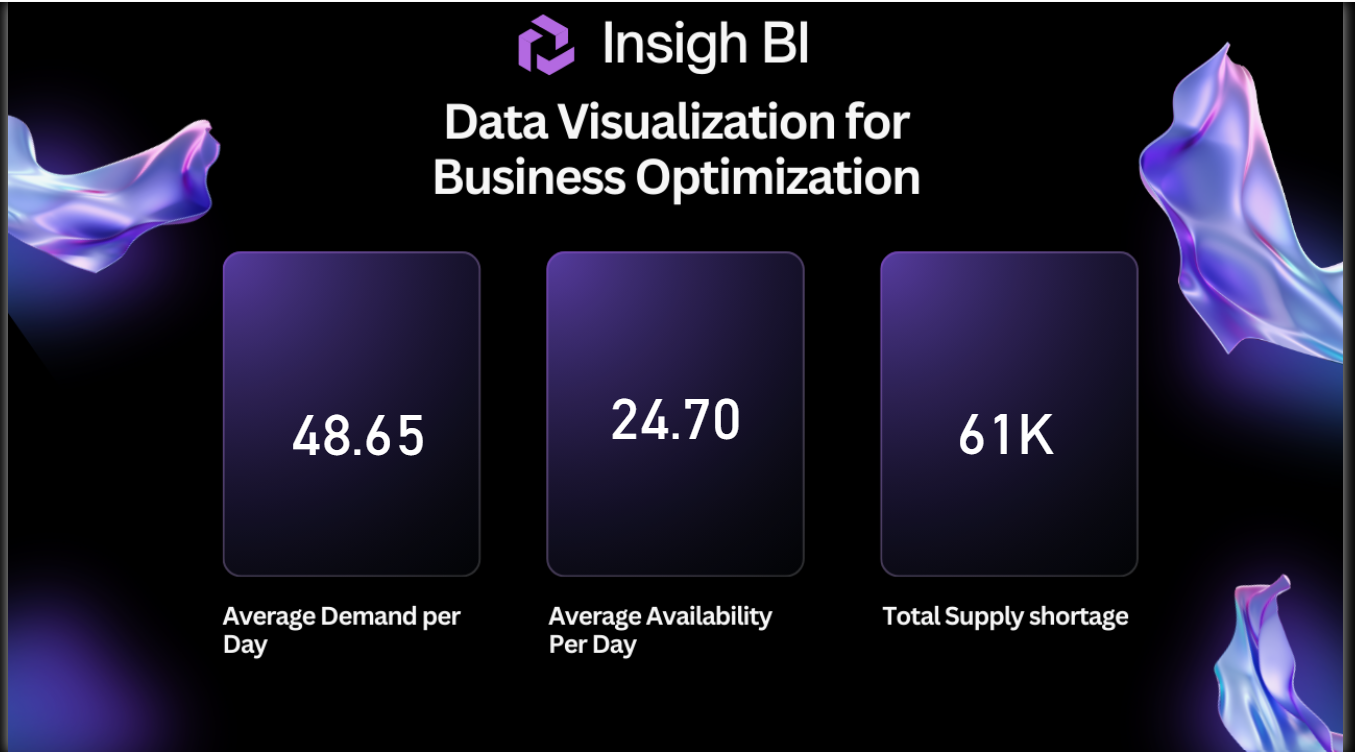

What the dashboard file says about the page in this screenshot:
{"tool":"powerbi","page":{"name":"Page 1","canvas":[1280,720],"ordinal":0},"visuals":[{"type":"card","fields":{"Values":["MEASURE Table.avg demand/day"]},"box":[250.4,267.8,171.7,280.4],"z":0},{"type":"card","fields":{"Values":["MEASURE Table.avg avalability"]},"box":[560.7,267.8,157.5,250.4],"z":1000},{"type":"card","fields":{"Values":["MEASURE Table.supply shortage"]},"box":[864.7,278.8,182.7,256.7],"z":2000}]}

Visuals, with their boxes in screenshot pixels (x1, y1, x2, y2), scaled from the page's 1280x720 canvas onto the 1355x752 screenshot:
card - MEASURE Table.avg demand/day: detection(265, 280, 447, 573)
card - MEASURE Table.avg avalability: detection(594, 280, 760, 541)
card - MEASURE Table.supply shortage: detection(915, 291, 1109, 559)
